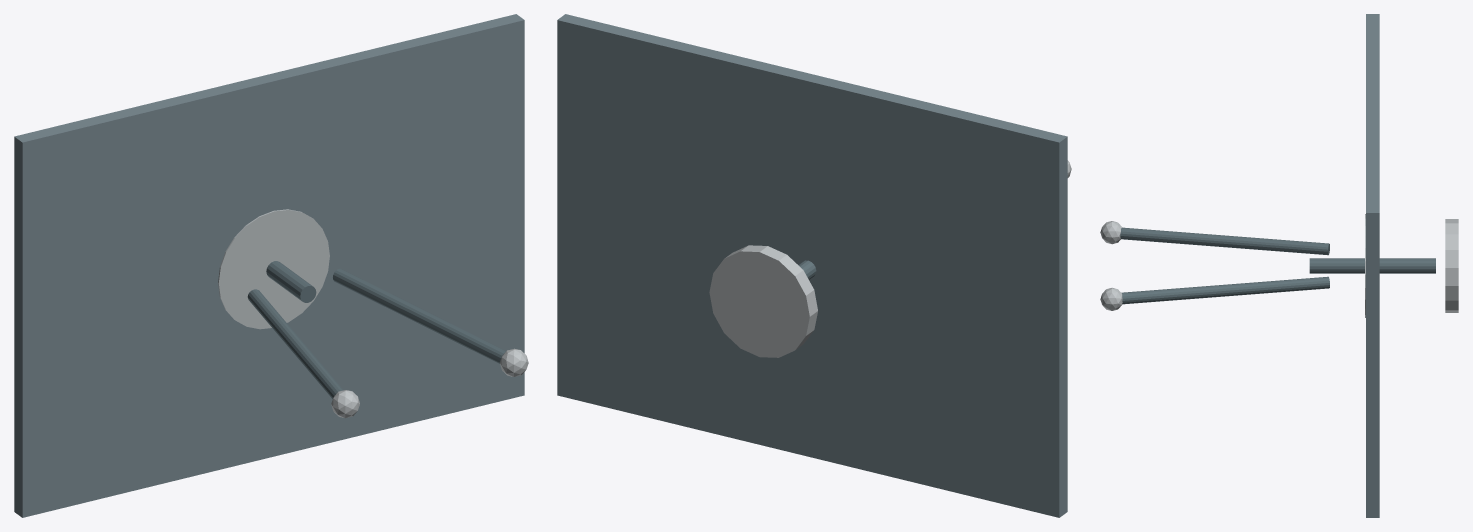
The model's file is stethoscope-medium.glb.
3 renders of one model, left to right at view 1: azimuth 30°, elevation 25°; view 2: azimuth 150°, elevation 25°; view 3: azimuth 270°, elevation 25°, orthographic. The views are drawn at different scales.
Parts seen in each view (by area): view 1: presentation_base_detail, diaphragm_ring_detail, right_tube, left_tube, main_tube, right_earpiece, left_earpiece; view 2: presentation_base_detail, chestpiece; view 3: presentation_base_detail, left_tube, right_tube, main_tube, chestpiece, right_earpiece.
Boxes of the visible parts, x1=… form: presentation_base_detail: x1=14, y1=14, x2=524, y2=517; diaphragm_ring_detail: x1=218, y1=209, x2=329, y2=329; right_tube: x1=333, y1=268, x2=505, y2=363; left_tube: x1=247, y1=289, x2=343, y2=398; main_tube: x1=266, y1=261, x2=316, y2=302; right_earpiece: x1=500, y1=348, x2=528, y2=376; left_earpiece: x1=331, y1=390, x2=359, y2=418; presentation_base_detail: x1=557, y1=14, x2=1067, y2=517; chestpiece: x1=709, y1=245, x2=817, y2=357; presentation_base_detail: x1=1366, y1=14, x2=1379, y2=517; left_tube: x1=1120, y1=227, x2=1329, y2=255; right_tube: x1=1121, y1=276, x2=1329, y2=304; main_tube: x1=1309, y1=258, x2=1435, y2=273; chestpiece: x1=1445, y1=219, x2=1458, y2=312; right_earpiece: x1=1100, y1=287, x2=1122, y2=310.
Bounding box in the file's own units: 2.8 × 2 × 2.13.
